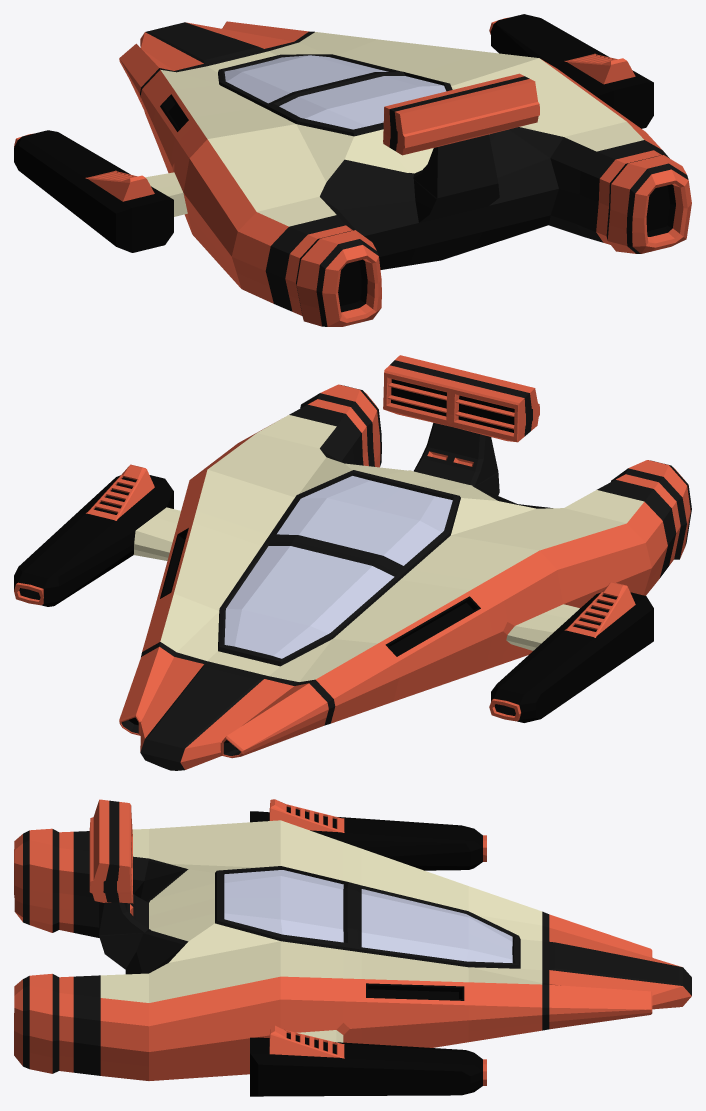
The model's file is Spaceship.fbx.
3 views of the same model, one above another, from view 1: azimuth 30°, elevation 25°; view 2: azimuth 150°, elevation 25°; view 3: azimuth 270°, elevation 25° (orthographic). The views are drawn at different scales.
Visible parts, largest first — view 1: Ship_Merged; view 2: Ship_Merged; view 3: Ship_Merged.
Boxes of the visible parts, x1,y1,x2,y2 form: Ship_Merged: (14,14,691,326); Ship_Merged: (14,355,691,770); Ship_Merged: (14,799,691,1096).
Bounding box in the file's own units: 537 × 173 × 608.
